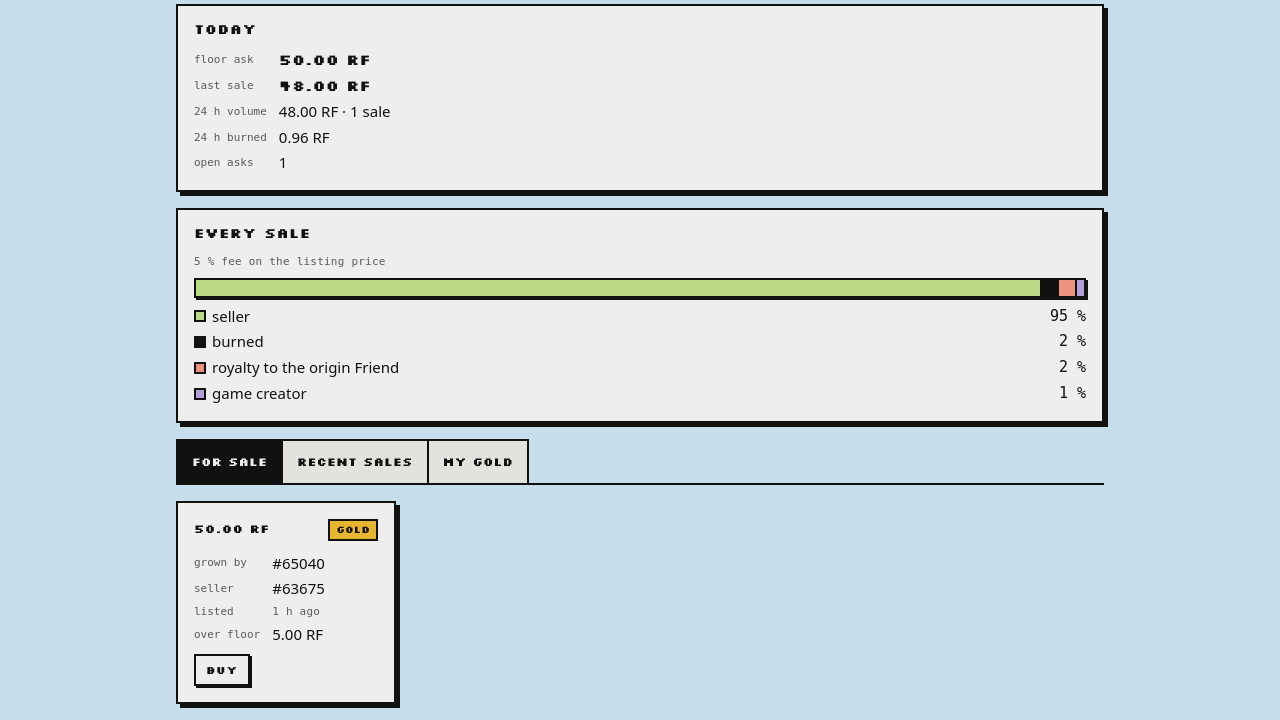
Test case: MarketPage › keeps a failed purchase open with the reason
(page scrolled)
Click the button with aria-label "buy gold pixel" at (222, 670), box x1=194 y1=654 x2=250 y2=686
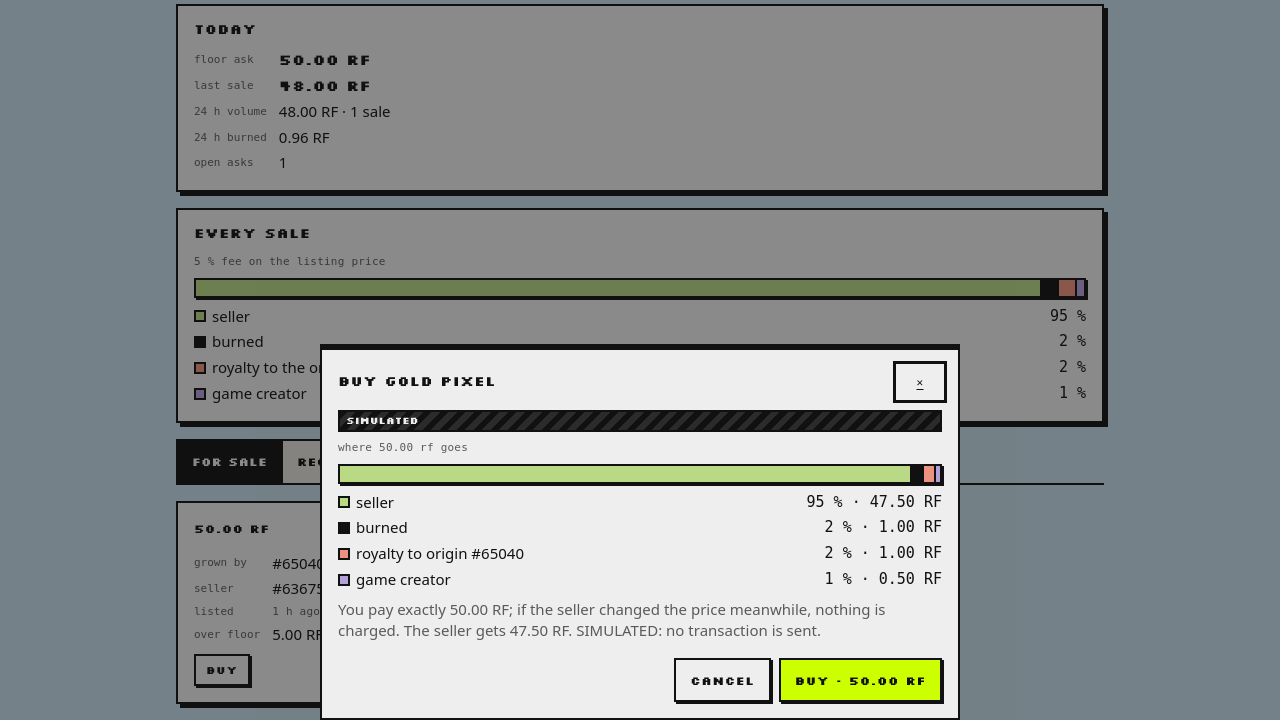
Click the button "buy · 50.00 RF" at (860, 680), box x1=779 y1=658 x2=942 y2=702
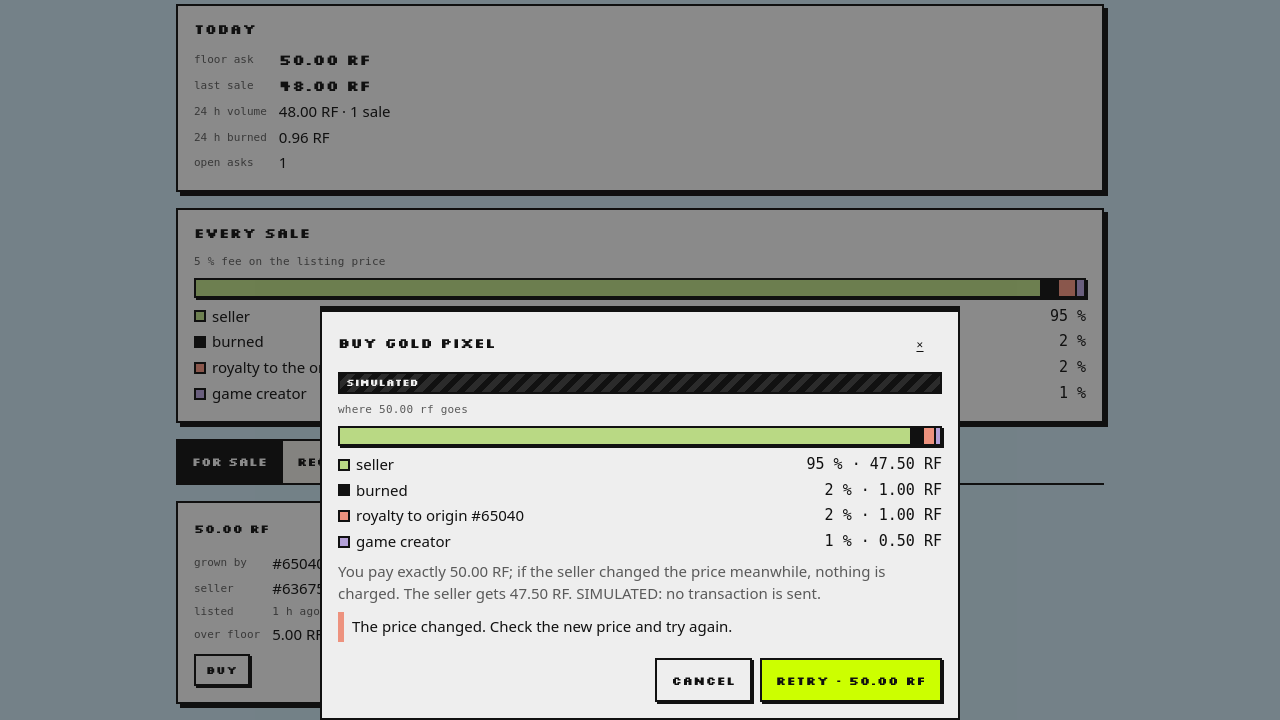
expect the message shows "price changed": met, box x1=352 y1=616 x2=732 y2=636
expect the button "retry · 50.00 RF" is shown: met, box x1=760 y1=658 x2=942 y2=702
